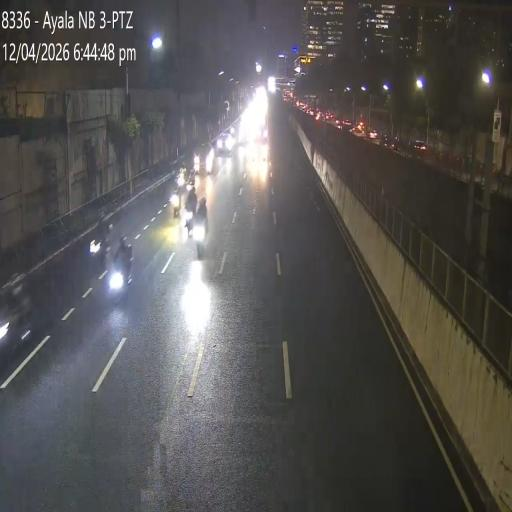Car: (194, 138, 216, 178), (217, 129, 234, 160)
Motor: (87, 206, 112, 270), (108, 242, 133, 293), (192, 214, 207, 259), (186, 183, 198, 235), (171, 181, 183, 226), (175, 158, 187, 194), (185, 167, 196, 200)
Not Accident: (186, 186, 208, 258), (188, 143, 214, 200)
